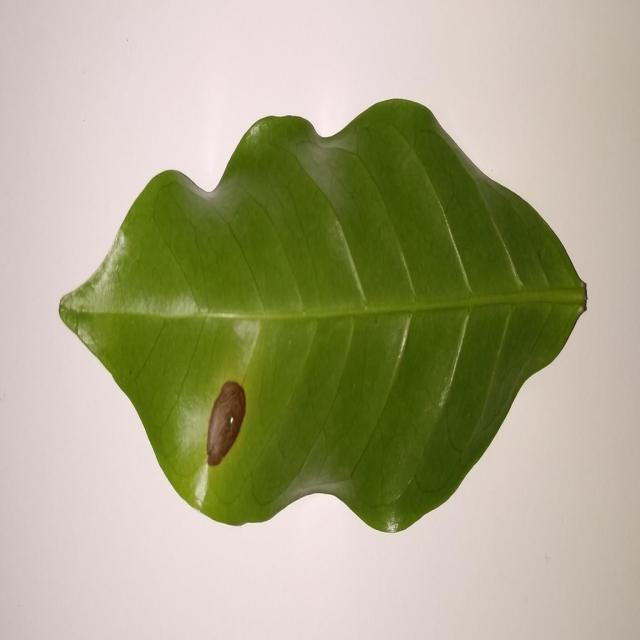phoma: (206, 381, 246, 466)
